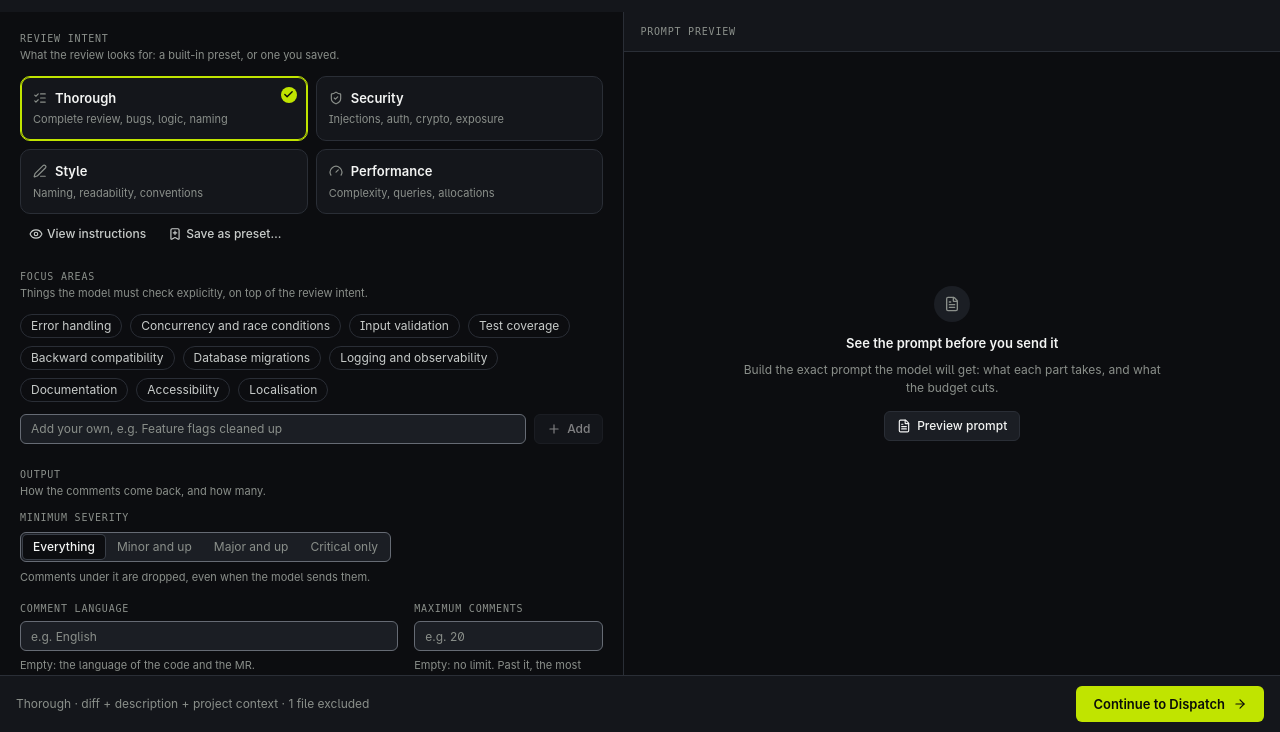
Test: BriefStage — prompt preview › marks the preview out of date while typing instead of rebuilding or re-rendering it
Click the button "Preview prompt": (952, 426) 884,411 -> 1020,441
(page scrolled)
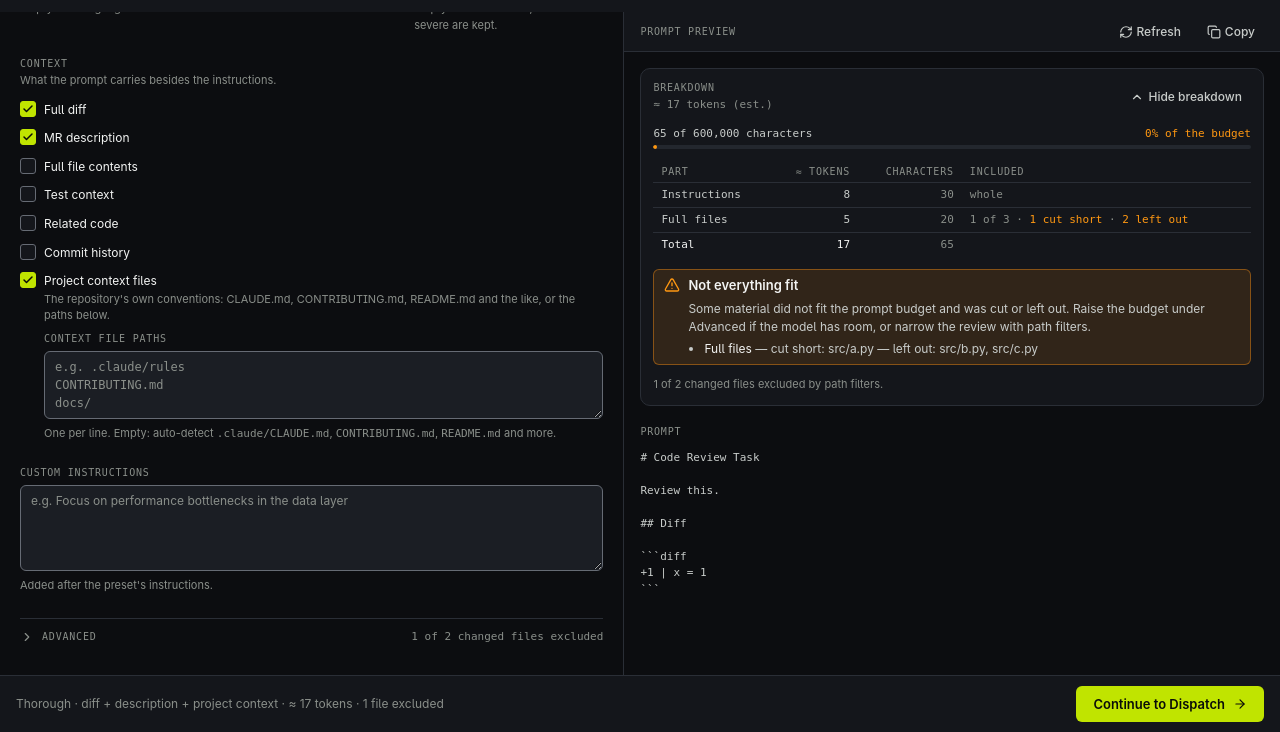
In the text box labelled "Custom instructions": (312, 528) 20,485 -> 603,571, type "Check the cache"
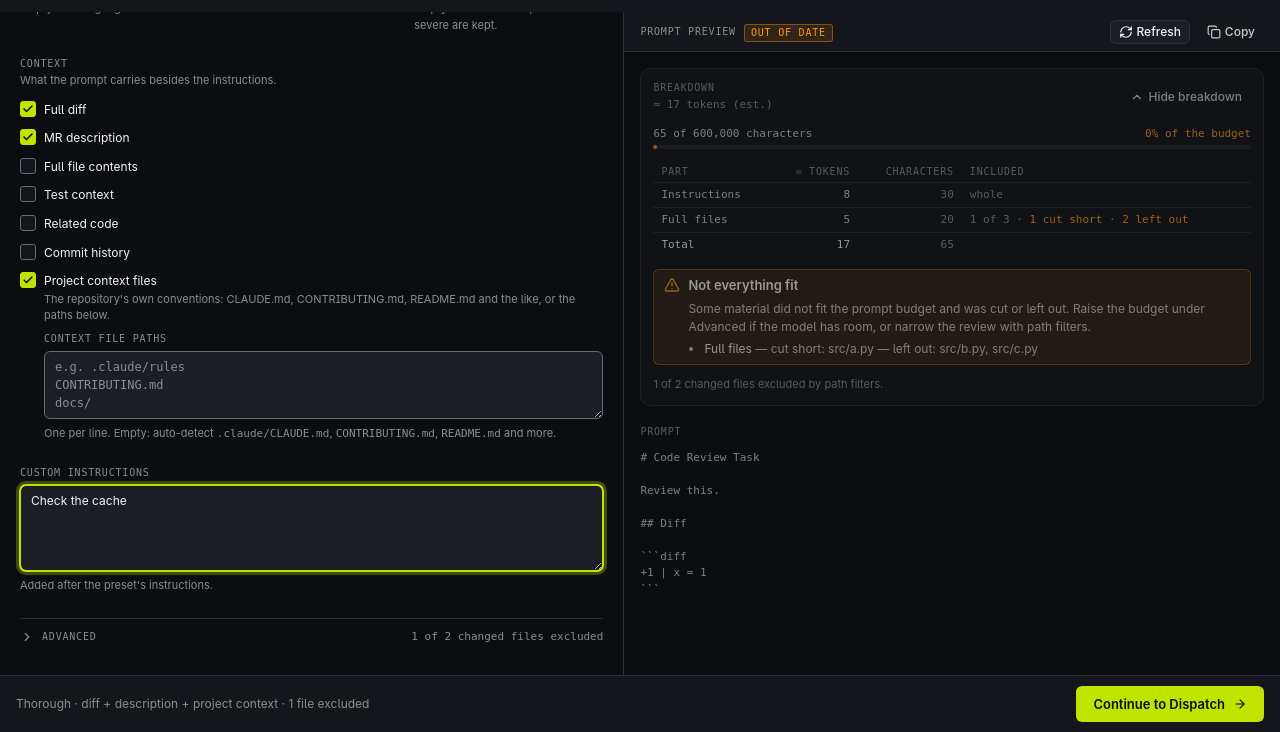
Check: the text "Out of date" is shown, box 744,24 -> 833,42
Click the button "Refresh": (1150, 32) 1110,20 -> 1190,44
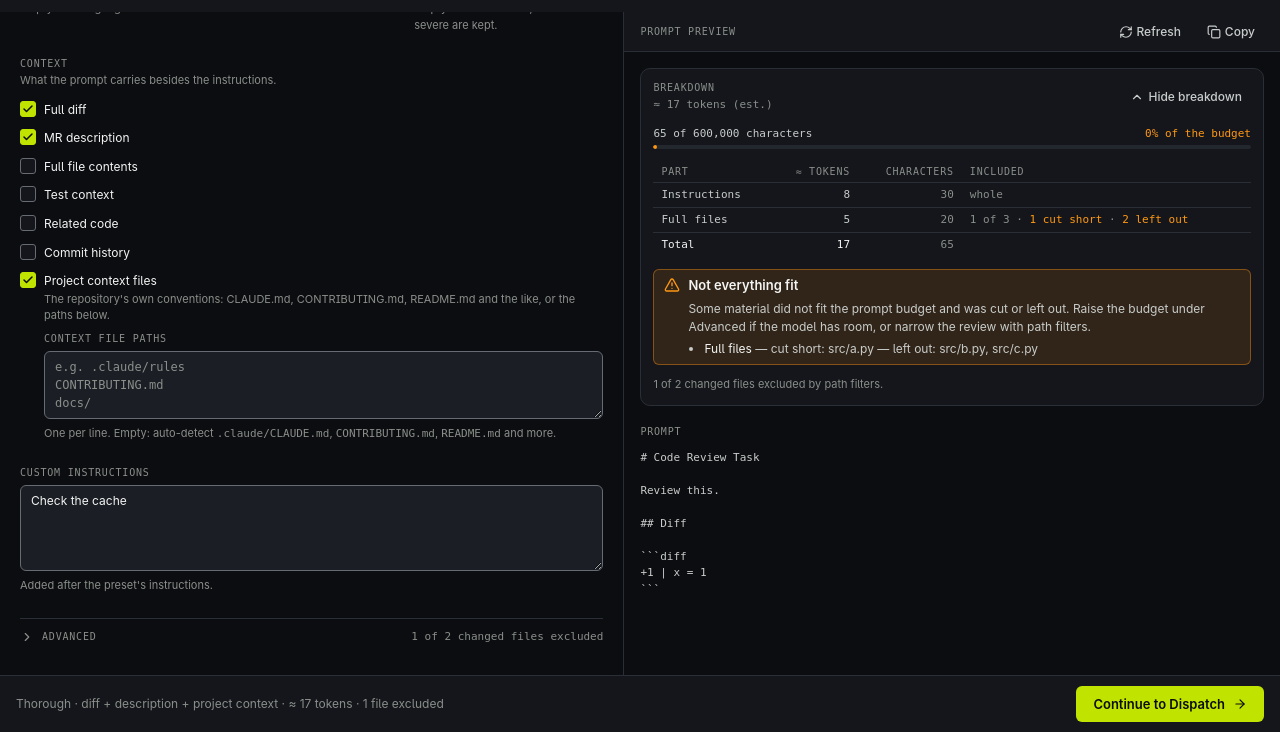
Check: the text "Out of date" is gone
